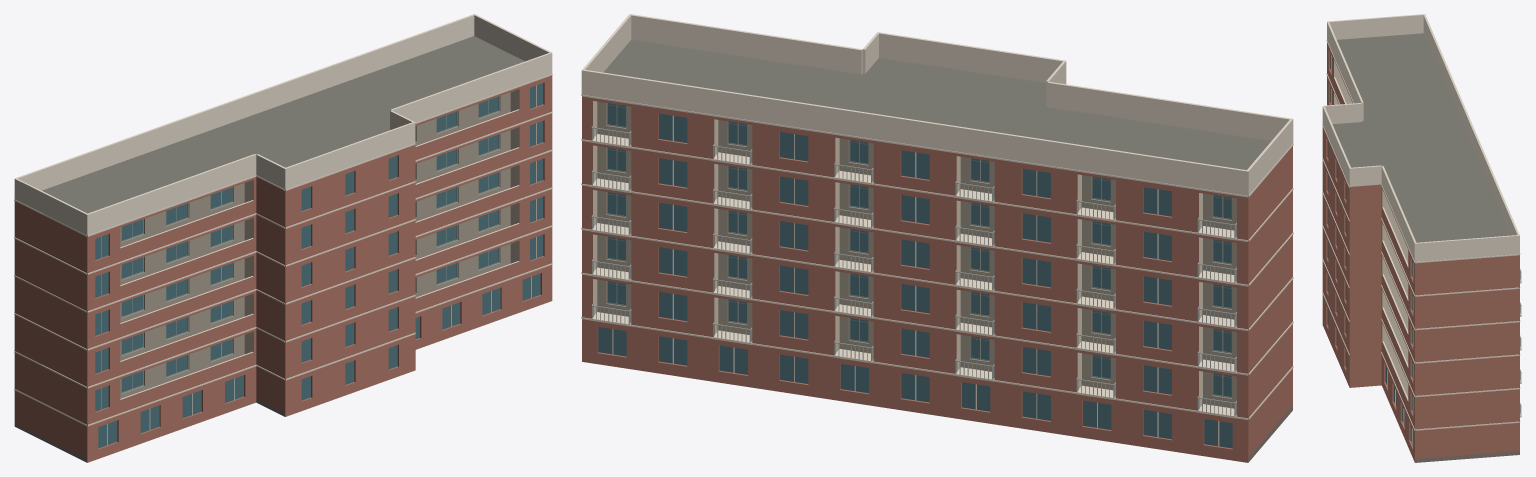
The model's file is chunk-dorm-way-759191481.glb.
3 views of the same model, side by side, from view 1: azimuth 30°, elevation 25°; view 2: azimuth 150°, elevation 25°; view 3: azimuth 270°, elevation 25° (orthographic). The views are drawn at different scales.
Parts seen in each view (by area): view 1: chunk-dorm-way-759191481; view 2: chunk-dorm-way-759191481; view 3: chunk-dorm-way-759191481.
Part boxes in pixels (bbox=[...]): chunk-dorm-way-759191481: bbox=[14, 14, 552, 462]; chunk-dorm-way-759191481: bbox=[581, 14, 1293, 462]; chunk-dorm-way-759191481: bbox=[1322, 14, 1521, 462].
Bounding box in the file's own units: 48.59 × 21.6 × 17.82.
